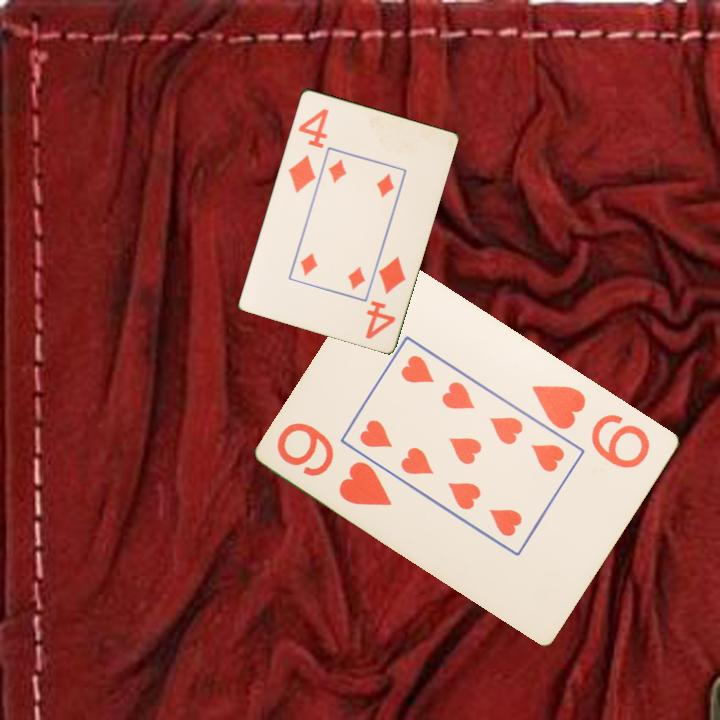4d: (361, 252, 409, 342), (284, 104, 331, 195)
9h: (528, 381, 654, 472), (273, 418, 396, 509)
